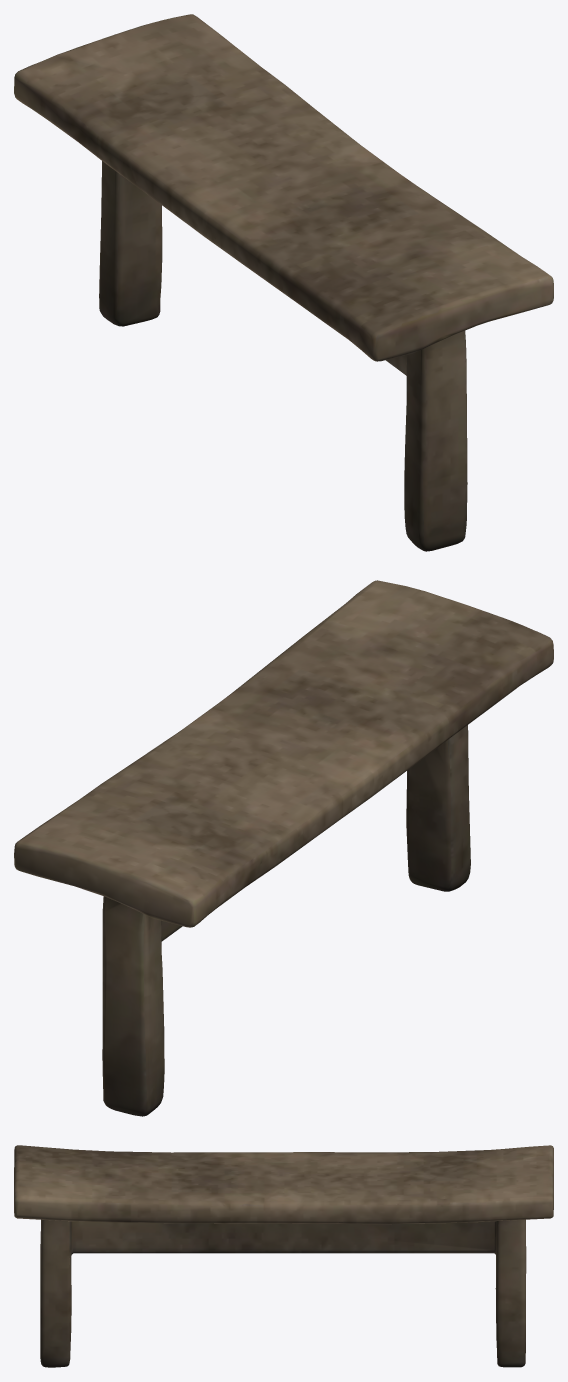
Rendered from simple-wood-bench-v001.glb.
3 views of the same model, one above another, from view 1: azimuth 30°, elevation 25°; view 2: azimuth 150°, elevation 25°; view 3: azimuth 270°, elevation 25° (orthographic). The views are drawn at different scales.
Parts seen in each view (by area): view 1: simple-wood-bench; view 2: simple-wood-bench; view 3: simple-wood-bench.
Part boxes in pixels (x1,y1,x2,y2): simple-wood-bench: (14,14,553,551); simple-wood-bench: (14,580,553,1116); simple-wood-bench: (14,1145,553,1367).
Bounding box in the file's own units: 0.3279 × 0.4498 × 1.1.
Materials: 1 (1 with a texture image).
